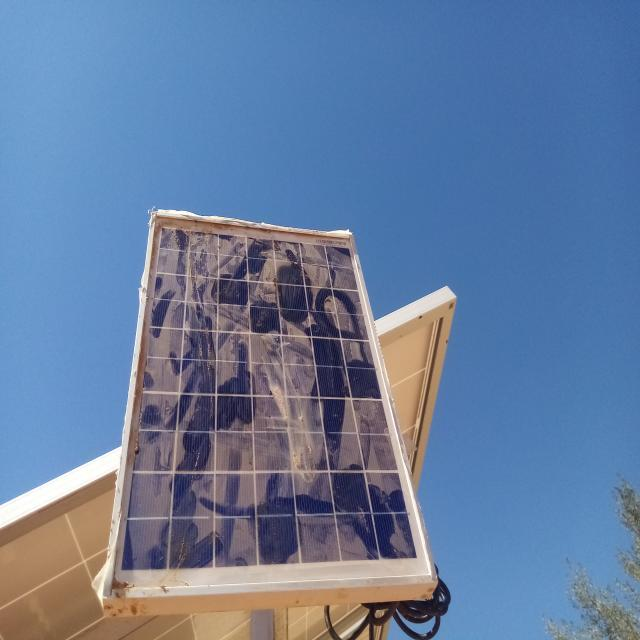faulty: (106, 214, 434, 598)
